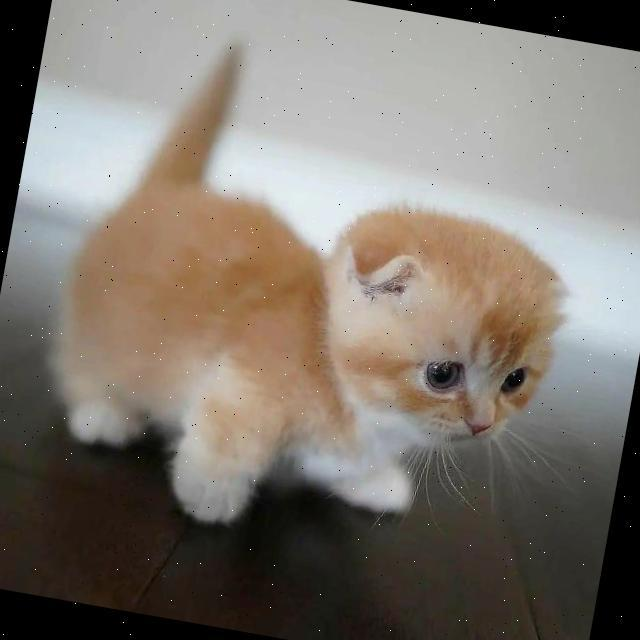Cats: (15, 116, 587, 575)
